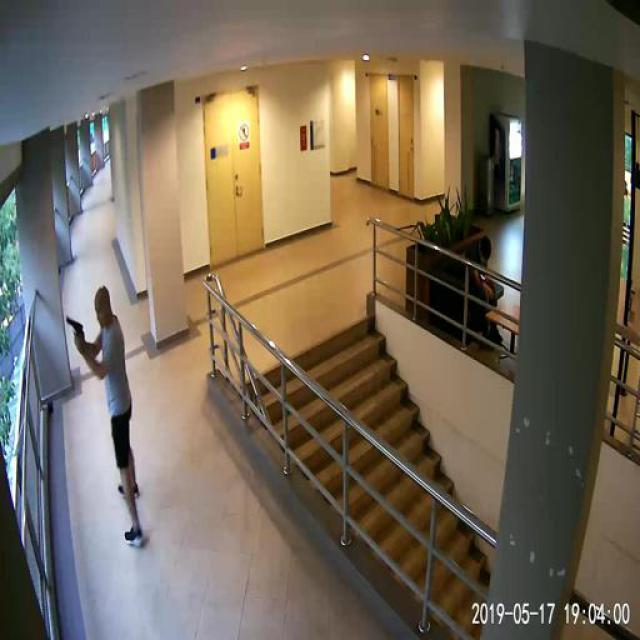gun: (65, 315, 81, 346)
